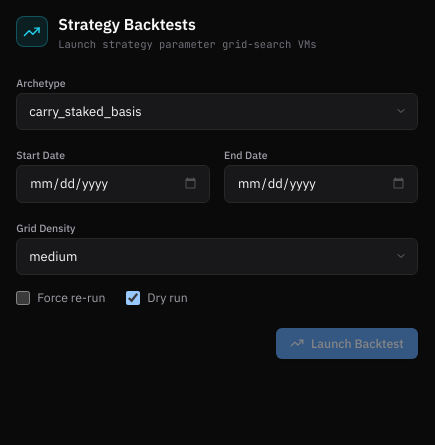
Test case: StrategyBacktests › shows error panel on API failure
This screenshot has width=435, height=445.
Type "2026-01-01" into the date field with test id "start-date-input" at (113, 184), box [16,165,210,202]
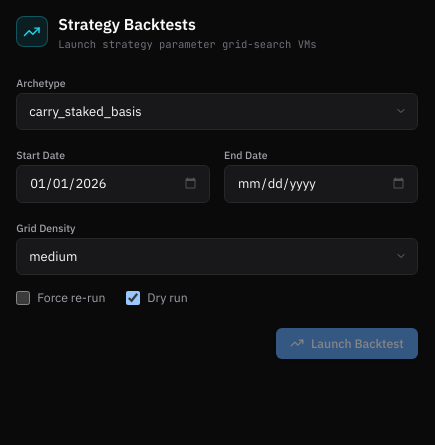
Type "2026-03-31" into the date field with test id "end-date-input" at (321, 184), box [224,165,418,202]
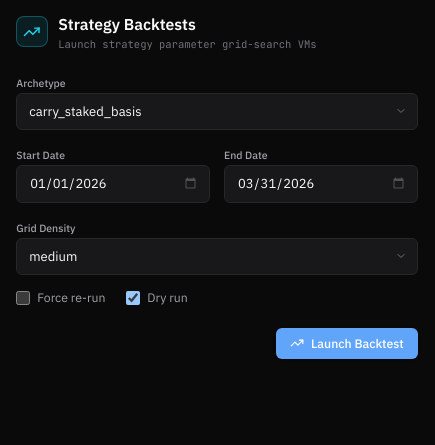
Click the button with test id "launch-button" at (347, 343), box [276,328,418,359]
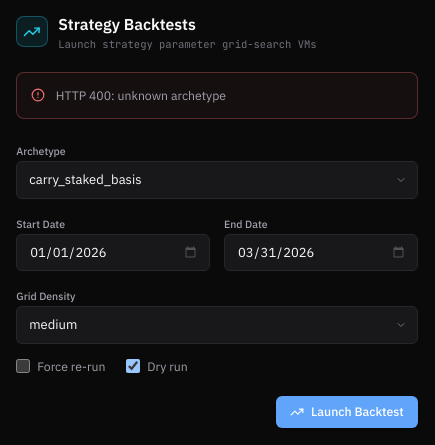
Result: the element with test id "launch-error" is shown at [16,72,418,119]
Result: the text "HTTP 400: unknown archetype" is shown at [56,86,226,104]
